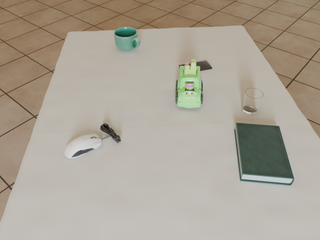book: (234, 123, 294, 185)
cup: (114, 27, 140, 51), (242, 88, 263, 114)
mouse: (64, 134, 102, 159)
phone: (179, 61, 212, 71)
toy_car: (176, 59, 203, 108)
